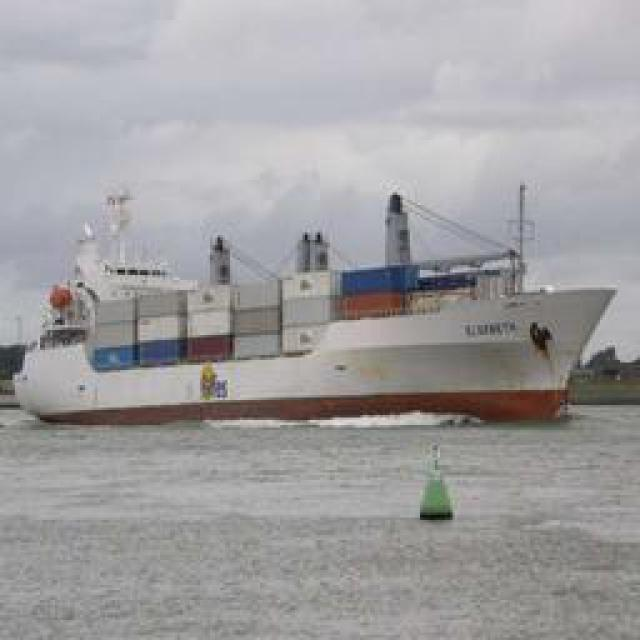Ship: (17, 183, 615, 428)
